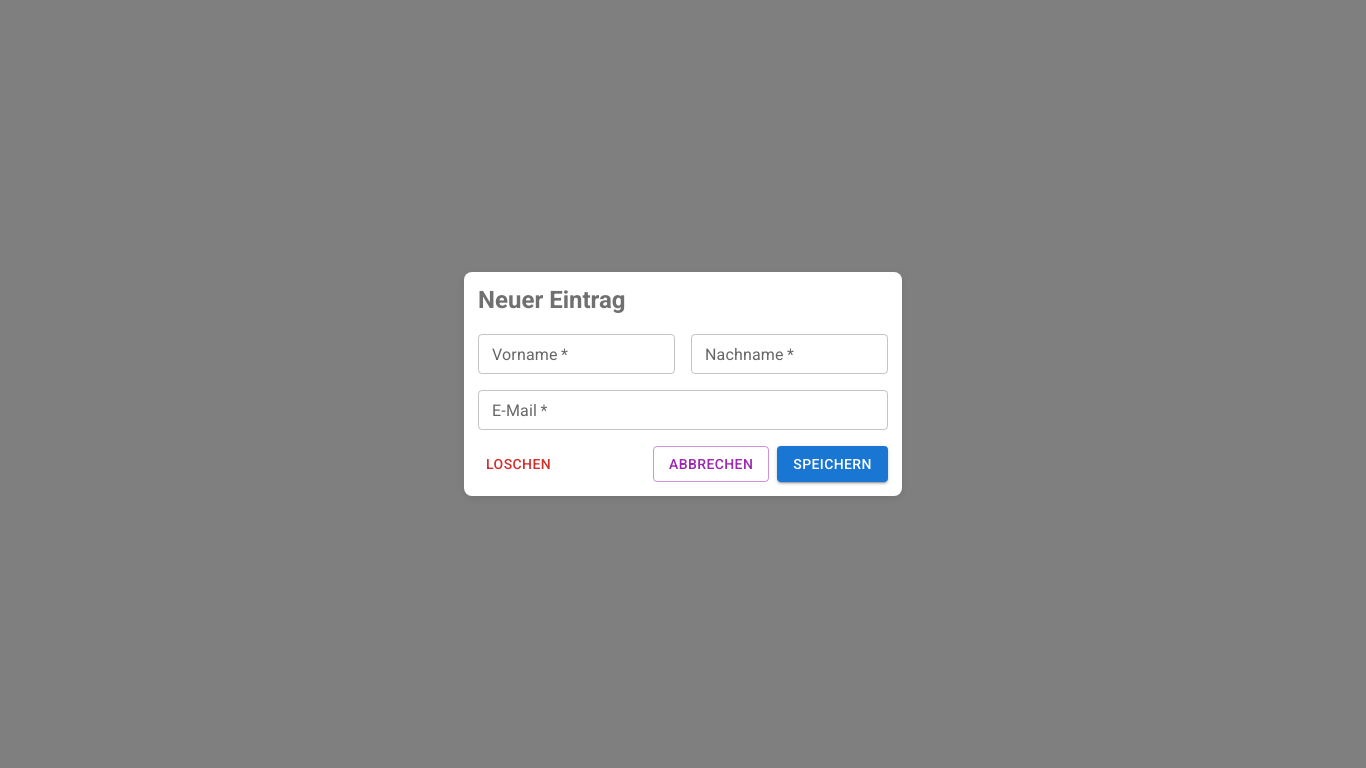
it: ContactForm Component › displays validation error when required fields are empty
Click the button "Speichern". click: coordinates (833, 464)
box: [777,446,888,482]
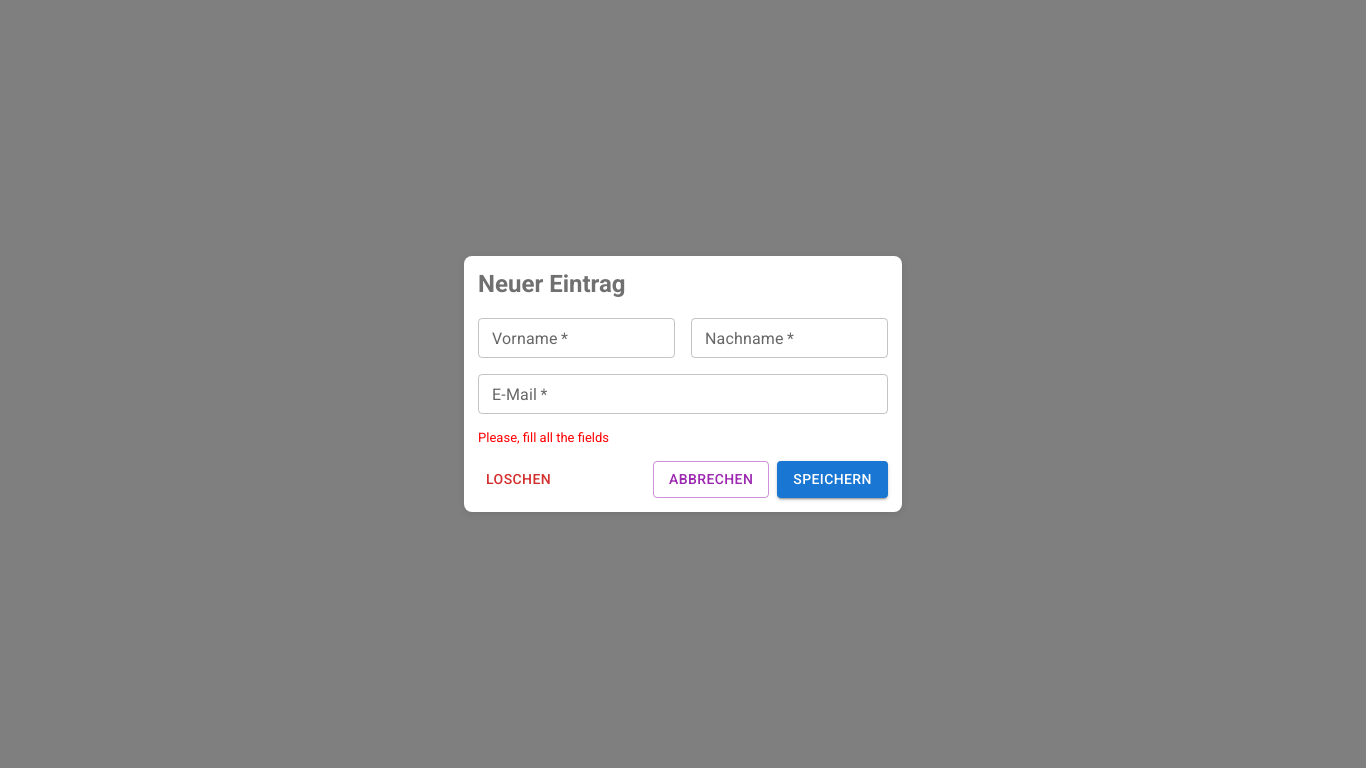
Expected: the text "Please, fill all the fields" is shown, [478,430,609,445]
